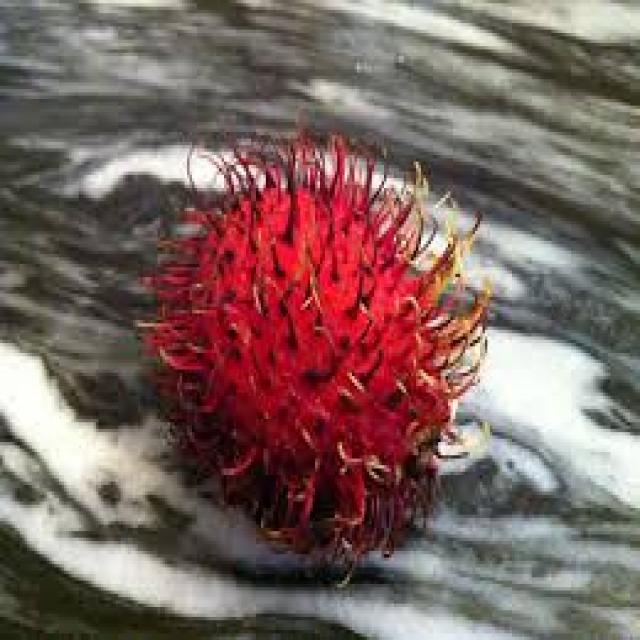organic waste: (135, 132, 485, 584)
